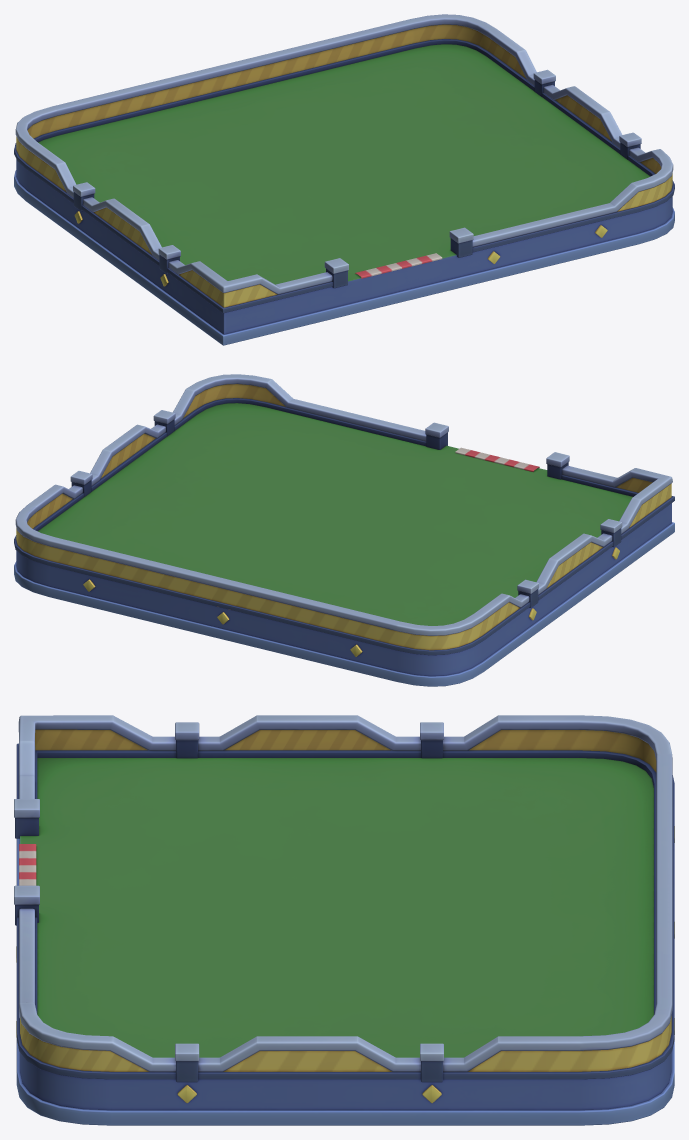
Rendered from Town_Track_Floor.fbx.
3 renders of one model, top to bottom at view 1: azimuth 30°, elevation 25°; view 2: azimuth 150°, elevation 25°; view 3: azimuth 270°, elevation 25°, orthographic. The views are drawn at different scales.
Parts seen in each view (by area): view 1: Town_Track_Floor; view 2: Town_Track_Floor; view 3: Town_Track_Floor.
Boxes of the visible parts, x1,y1,x2,y2 form: Town_Track_Floor: (14,14,674,345); Town_Track_Floor: (14,374,674,686); Town_Track_Floor: (14,715,674,1125).
Bounding box in the file's own units: 9628 × 1119 × 8116.
